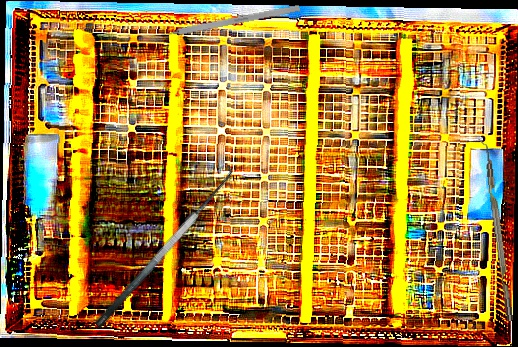Chopper: (475, 137, 514, 323)
Hook Surgical: (150, 4, 301, 41)
Spatula Surgical: (80, 158, 243, 331)
